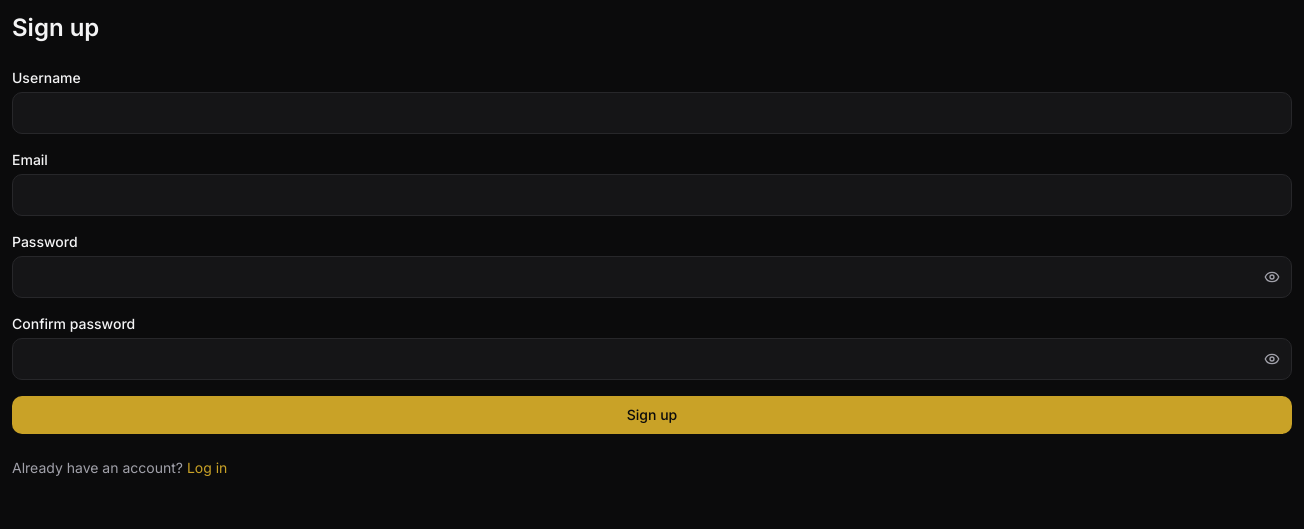
Test: SignupForm › shows the error message returned by the signup action
The width and height of the screenshot is (1304, 529).
In the field labelled "Username": (652, 113) [12, 92, 1292, 134], type "example"
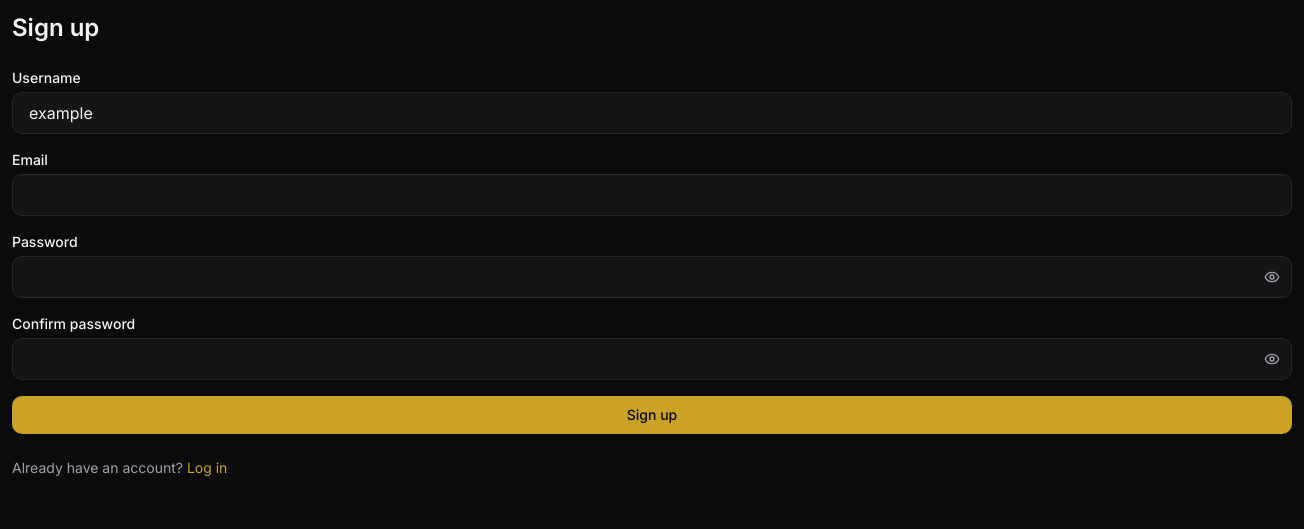
In the field labelled "Email": (652, 195) [12, 174, 1292, 216], type "new@example.com"
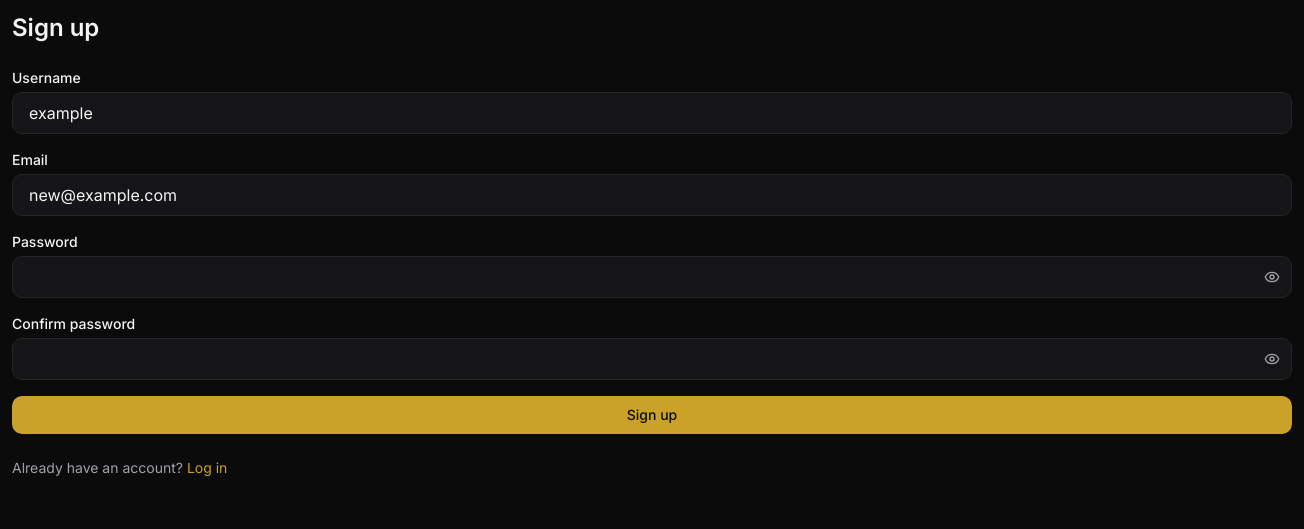
In the password field labelled "Password": (652, 277) [12, 256, 1292, 298], type "secret123"
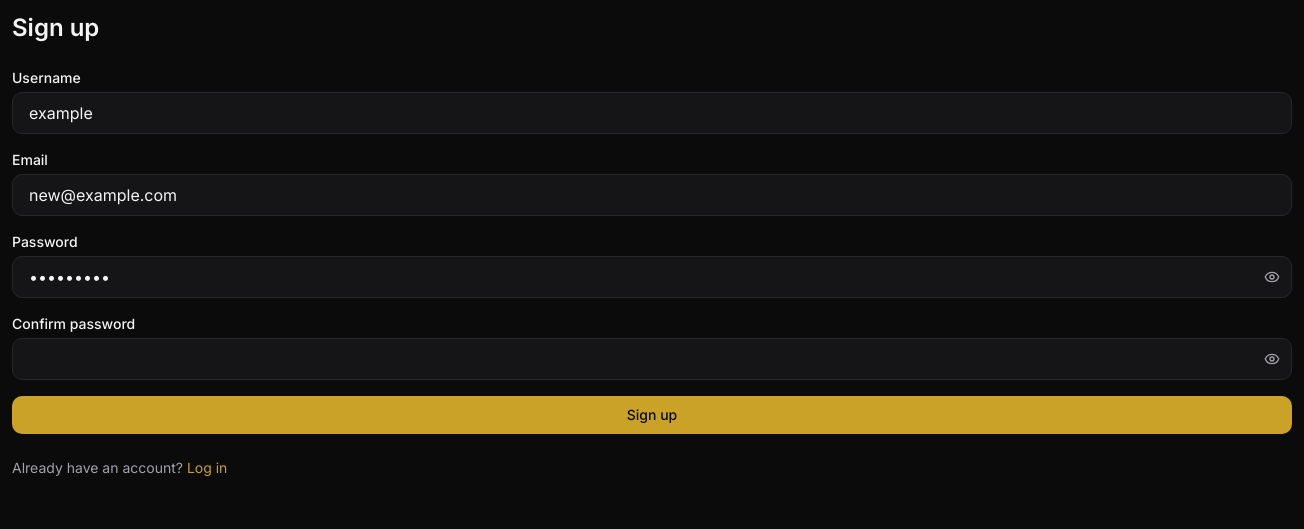
In the password field labelled "Confirm password": (652, 359) [12, 338, 1292, 380], type "secret123"
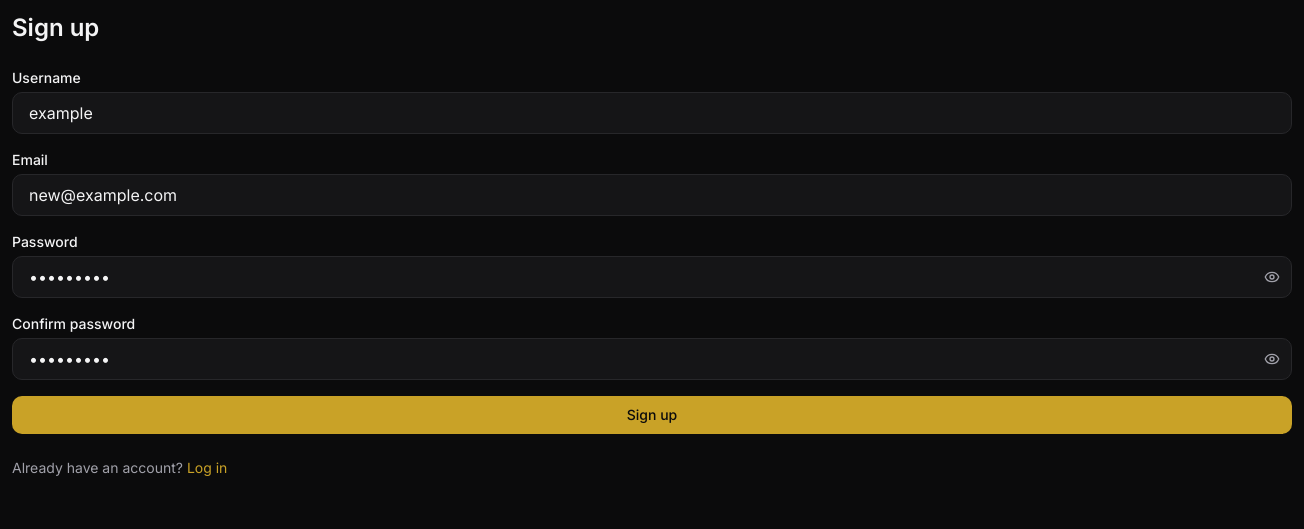
Click the button "Sign up": (652, 415) [12, 396, 1292, 434]
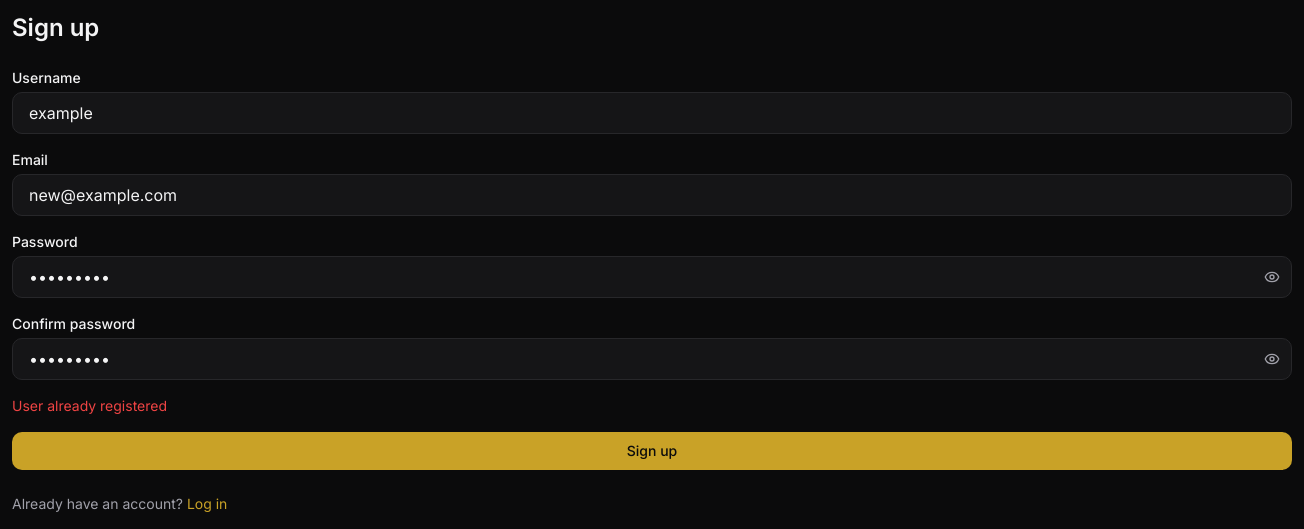
Result: the message reads "User already registered" at [12, 397, 167, 414]
